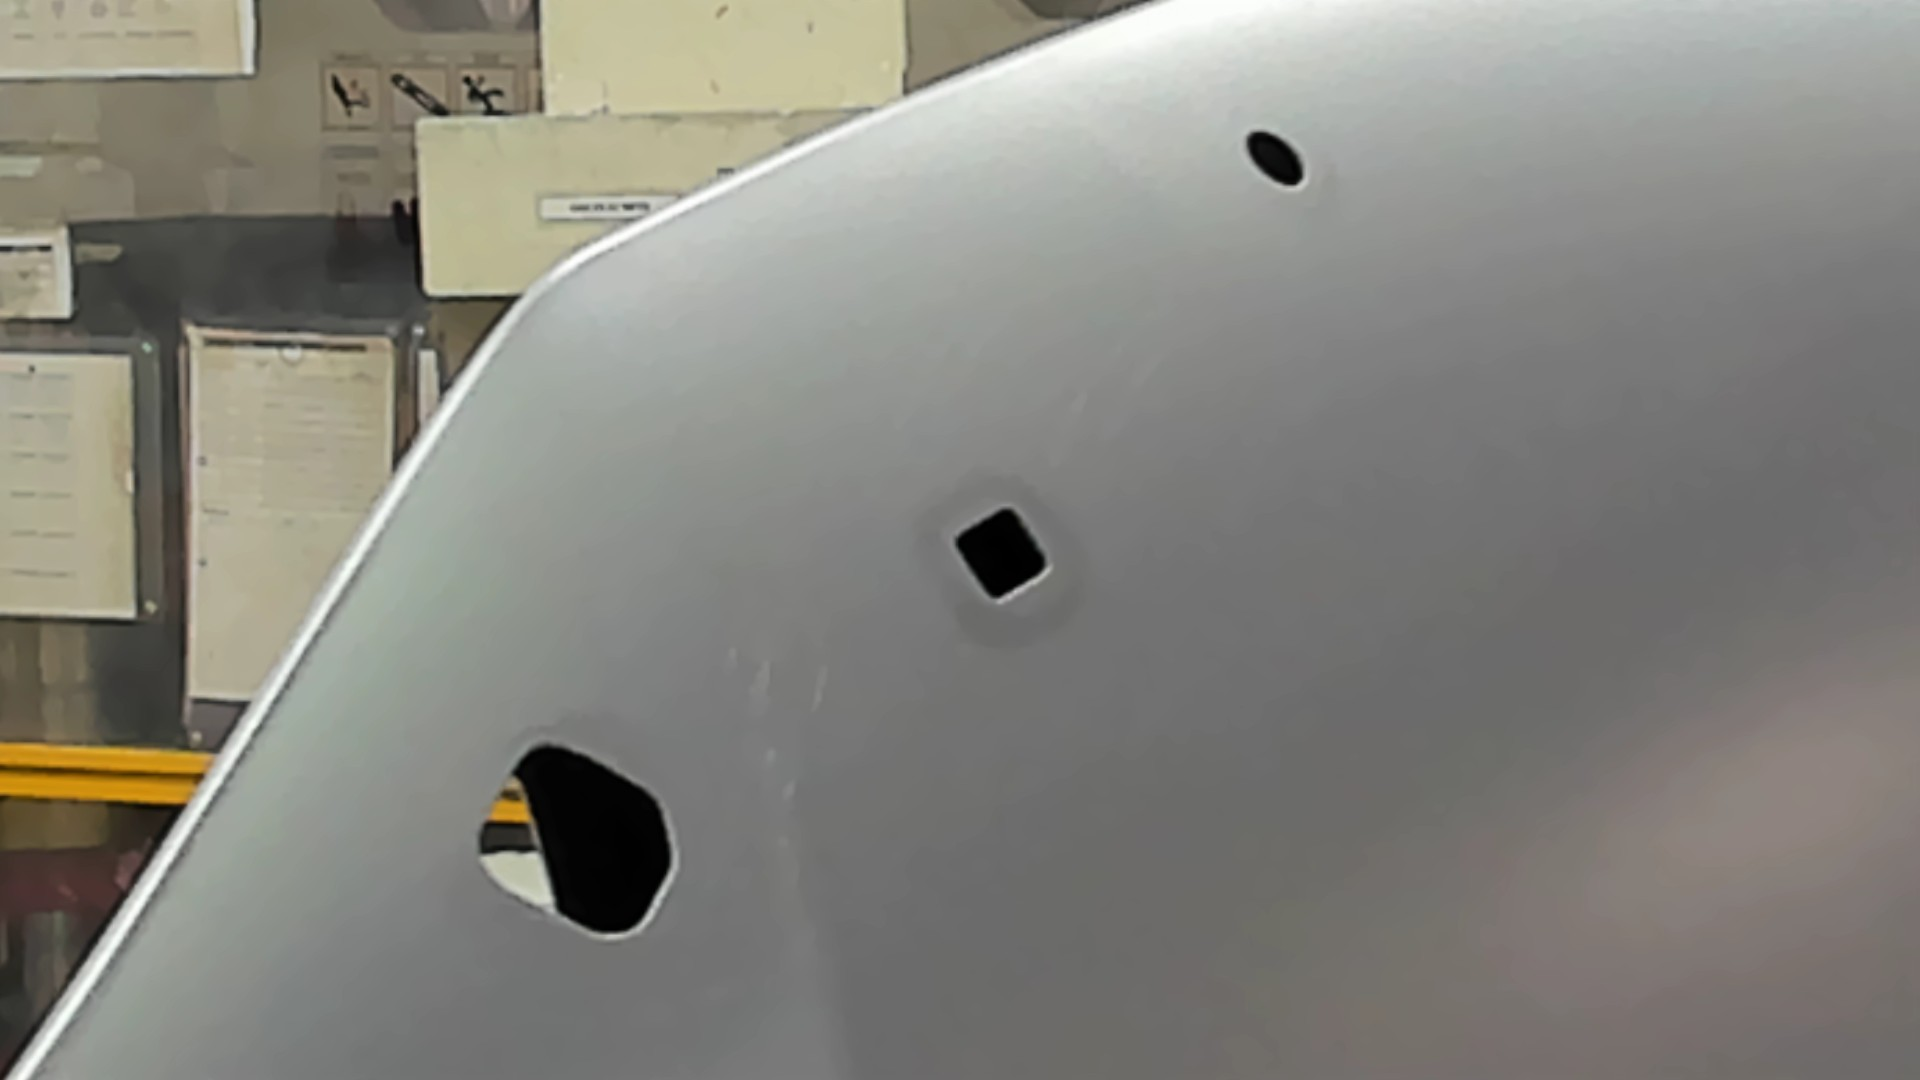chico: (1242, 127, 1309, 189)
grande: (473, 741, 676, 942)
mediano: (951, 502, 1054, 605)
